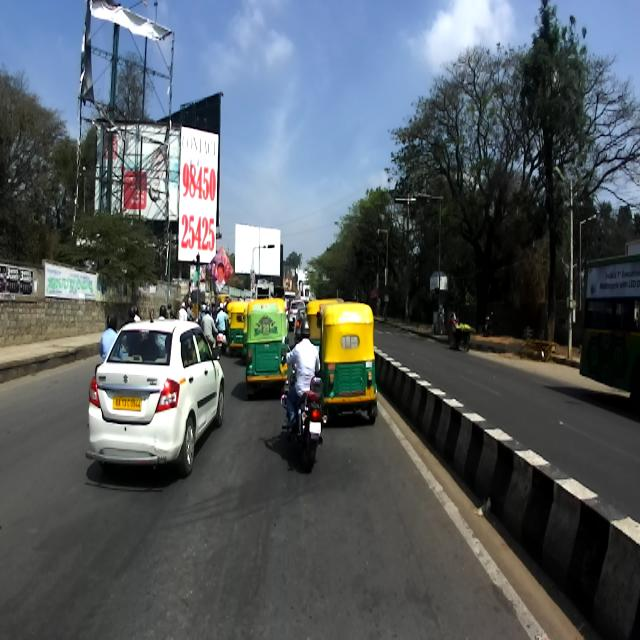auto ahead at: (316, 303, 378, 417), (243, 301, 290, 385)
car ahead at: (84, 312, 228, 479)
motorcycle ahead at: (283, 396, 330, 469)
